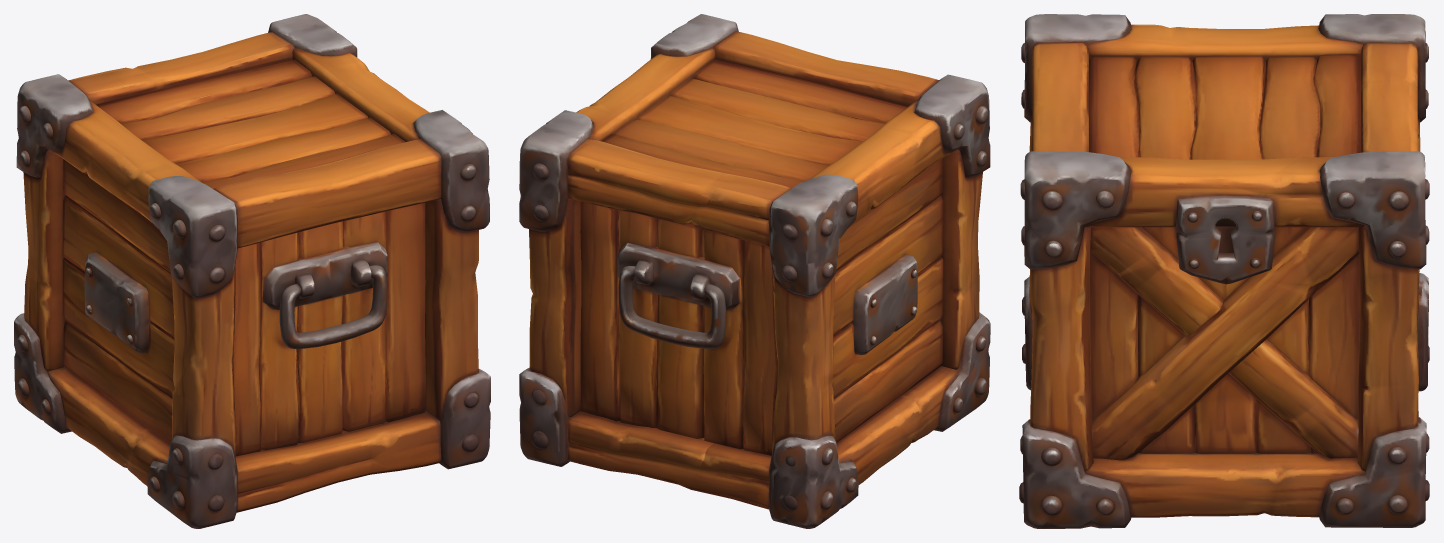
File: 01-crate.glb
3 views of the same model, side by side, from view 1: azimuth 30°, elevation 25°; view 2: azimuth 150°, elevation 25°; view 3: azimuth 270°, elevation 25° (orthographic). The views are drawn at different scales.
Parts seen in each view (by area): view 1: tripo_node_84f20a6b-2108-437c-97b4-8c0c3789e4d5; view 2: tripo_node_84f20a6b-2108-437c-97b4-8c0c3789e4d5; view 3: tripo_node_84f20a6b-2108-437c-97b4-8c0c3789e4d5.
Part boxes in pixels (x1=…): tripo_node_84f20a6b-2108-437c-97b4-8c0c3789e4d5: x1=14, y1=14, x2=490, y2=528; tripo_node_84f20a6b-2108-437c-97b4-8c0c3789e4d5: x1=519, y1=14, x2=990, y2=528; tripo_node_84f20a6b-2108-437c-97b4-8c0c3789e4d5: x1=1019, y1=14, x2=1429, y2=528.
Bounding box in the file's own units: 0.979 × 0.9629 × 0.9995.
1 material, 1 textured.
